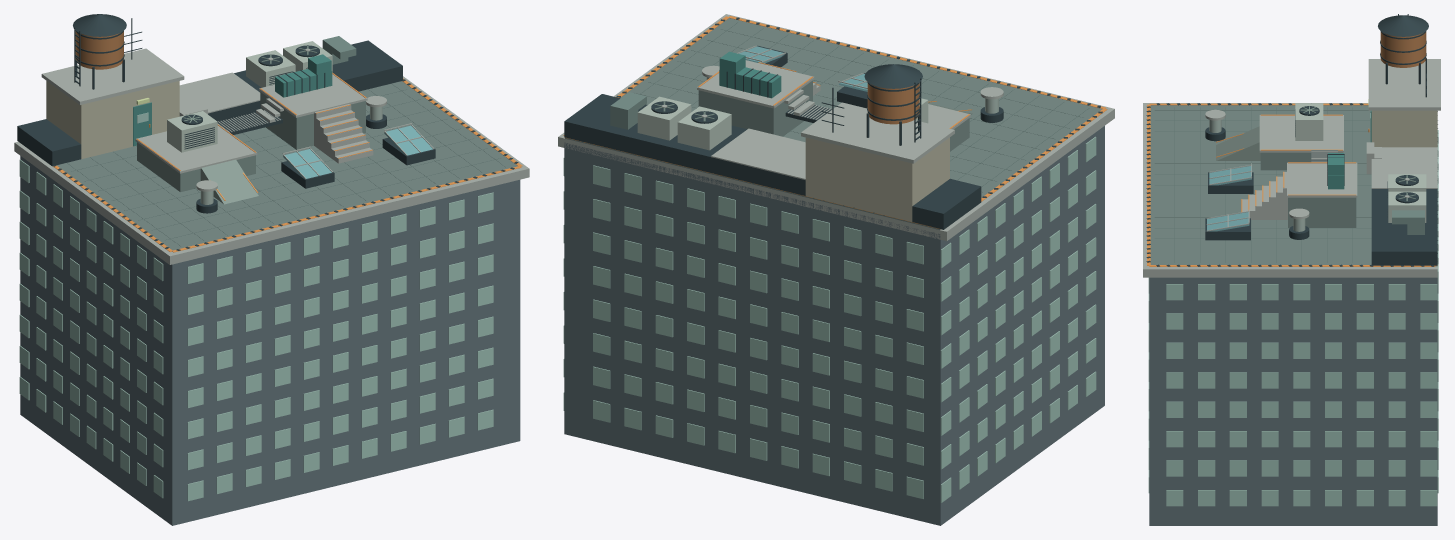
File: skyline.glb
3 renders of one model, left to right at view 1: azimuth 30°, elevation 25°; view 2: azimuth 150°, elevation 25°; view 3: azimuth 270°, elevation 25°, orthographic. The views are drawn at different scales.
Visible parts, largest first — view 1: Tower facade, Roof membrane, Oversailing roof slab, Service penthouse, Penthouse roof coping, West roof terrace coping, Rear plinth top, West rear roof shoulder, East mechanical terrace coping, East mechanical terrace, Sloped skylight glazing (×2), West access incline (+11 smaller); view 2: Tower facade, Roof membrane, Service penthouse, Oversailing roof slab, Penthouse roof coping, HVAC housing (×2), Raised service deck, Rear plinth top, East mechanical terrace, West rear roof shoulder, East mechanical terrace coping, Wood water tank (+6 smaller); view 3: Tower facade, Roof membrane, Oversailing roof slab, Penthouse roof coping, Service penthouse, West roof terrace coping, Rear plinth top, East mechanical terrace coping, East rear roof shoulder, East mechanical terrace, Raised service deck, Flush edge warning (×3) (+9 smaller).
Part boxes in pixels (bbox=[...]): Tower facade: bbox=[20, 156, 520, 525]; Roof membrane: bbox=[57, 81, 517, 250]; Oversailing roof slab: bbox=[14, 76, 529, 264]; Service penthouse: bbox=[46, 81, 179, 159]; Penthouse roof coping: bbox=[41, 48, 184, 104]; West roof terrace coping: bbox=[135, 125, 257, 173]; Rear plinth top: bbox=[179, 72, 260, 113]; West rear roof shoulder: bbox=[17, 119, 81, 166]; East mechanical terrace coping: bbox=[259, 74, 367, 117]; East mechanical terrace: bbox=[260, 92, 365, 149]; Sloped skylight glazing (×2): bbox=[283, 125, 432, 178]; West access incline: bbox=[200, 159, 258, 204]; Tower facade: bbox=[564, 126, 1104, 525]; Roof membrane: bbox=[565, 18, 1102, 229]; Service penthouse: bbox=[805, 137, 949, 221]; Oversailing roof slab: bbox=[558, 14, 1114, 241]; Penthouse roof coping: bbox=[801, 102, 954, 163]; HVAC housing (×2): bbox=[637, 96, 731, 150]; Raised service deck: bbox=[598, 104, 746, 172]; Rear plinth top: bbox=[711, 128, 805, 179]; East mechanical terrace: bbox=[698, 80, 812, 136]; West rear roof shoulder: bbox=[912, 178, 981, 229]; East mechanical terrace coping: bbox=[697, 60, 814, 108]; Wood water tank: bbox=[867, 83, 919, 124]; Tower facade: bbox=[1149, 277, 1437, 525]; Roof membrane: bbox=[1150, 105, 1437, 266]; Oversailing roof slab: bbox=[1143, 103, 1437, 277]; Penthouse roof coping: bbox=[1368, 59, 1440, 110]; Service penthouse: bbox=[1371, 110, 1437, 147]; West roof terrace coping: bbox=[1259, 115, 1343, 152]; Rear plinth top: bbox=[1371, 147, 1437, 188]; East mechanical terrace coping: bbox=[1287, 162, 1357, 197]; East rear roof shoulder: bbox=[1371, 237, 1437, 265]; East mechanical terrace: bbox=[1288, 197, 1356, 227]; Raised service deck: bbox=[1371, 189, 1437, 237]; Flush edge warning (×3): bbox=[1147, 103, 1435, 266].
Bounding box in the file's own units: 27.9 × 29.58 × 21.11.
